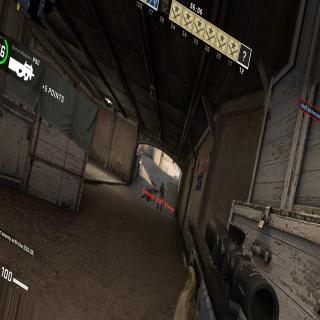T-Body: (157, 182, 166, 212)
T-Head: (162, 182, 164, 188)
